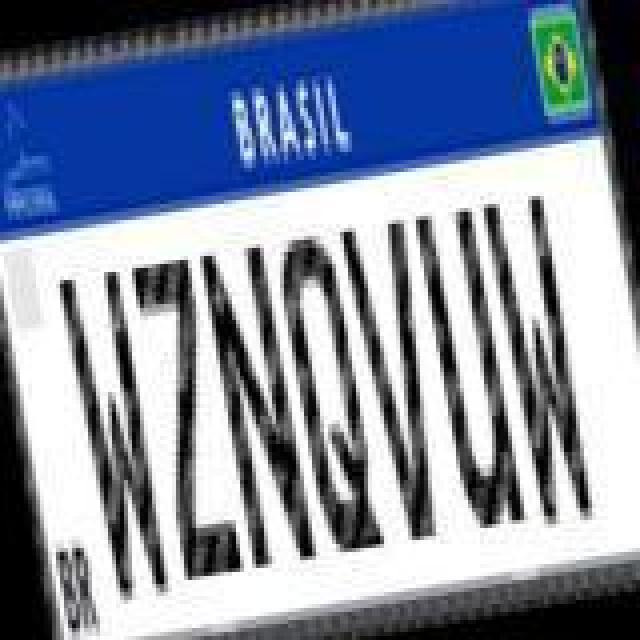N: (194, 240, 318, 576)
Q: (270, 226, 386, 558)
U: (414, 200, 530, 536)
V: (338, 210, 462, 542)
W: (54, 264, 178, 608), (480, 190, 600, 530)
Z: (126, 250, 242, 582)
